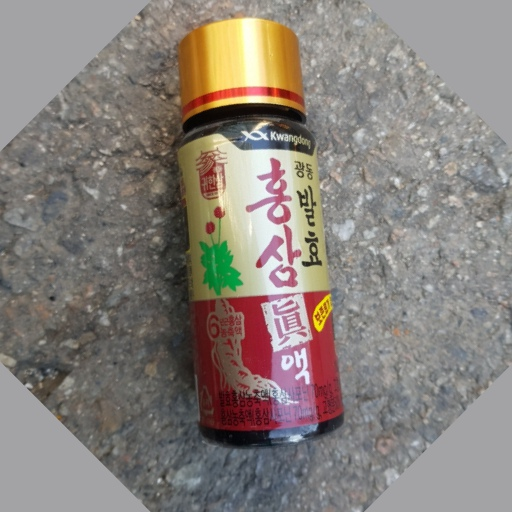Glass_3: (171, 13, 351, 451)
